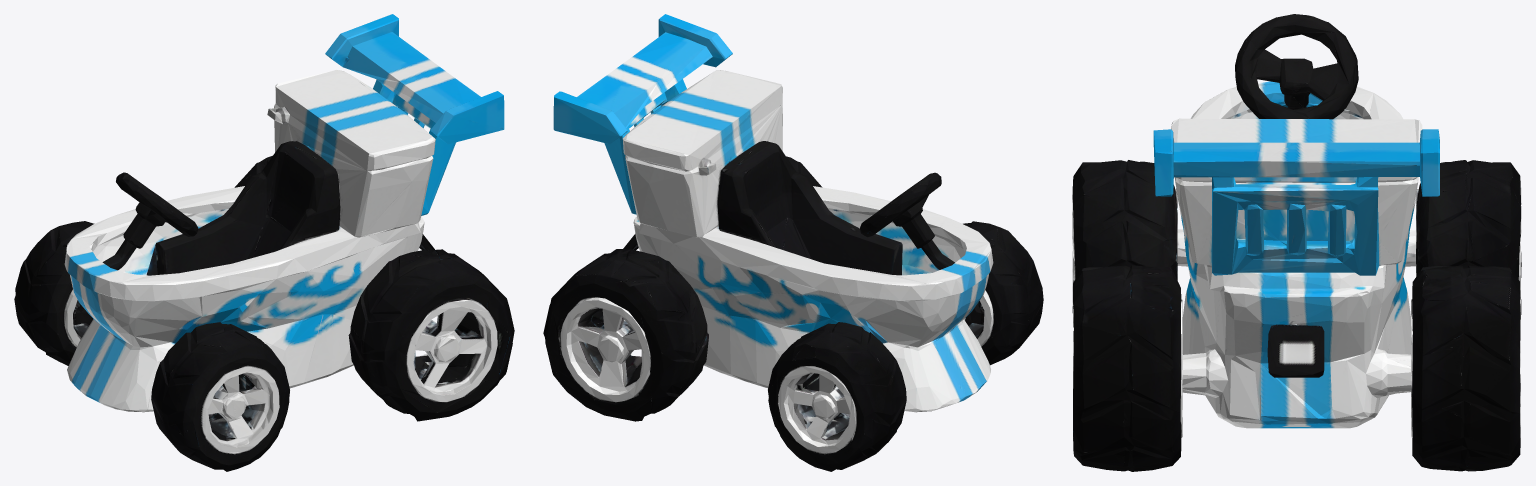
Rendered from toilet_turbo.glb.
3 renders of one model, left to right at view 1: azimuth 30°, elevation 25°; view 2: azimuth 150°, elevation 25°; view 3: azimuth 270°, elevation 25°, orthographic. The views are drawn at different scales.
Parts seen in each view (by area): view 1: geometry_0; view 2: geometry_0; view 3: geometry_0.
Part boxes in pixels (x1,y1,x2,y2): geometry_0: (14,14,514,471); geometry_0: (543,14,1043,471); geometry_0: (1072,14,1521,471).
Size of the model in its own units: 1.9 by 1.39 by 1.57.
Materials: 1 (1 with a texture image).
